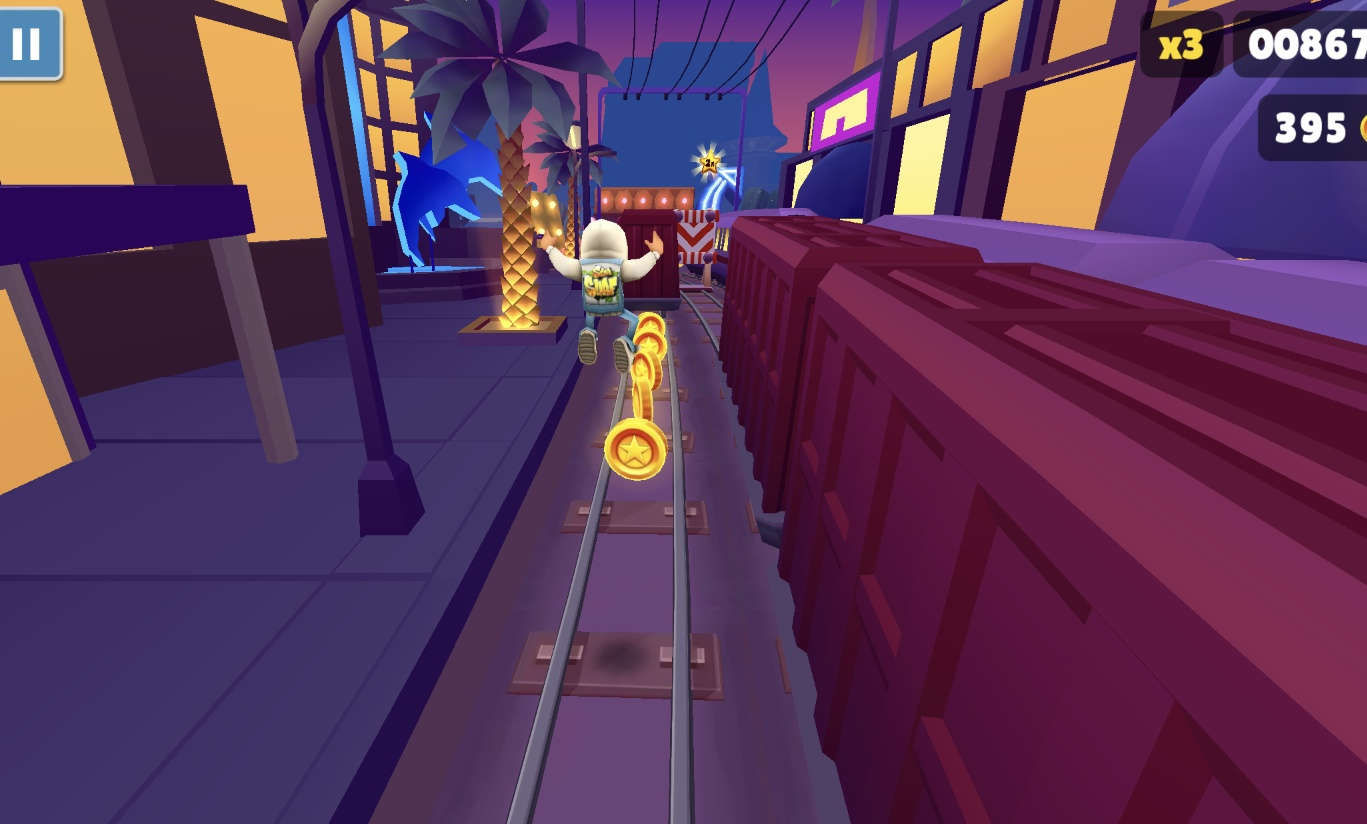overhead_barrier: (675, 209, 720, 291)
train: (720, 215, 1367, 824), (716, 208, 1367, 278), (611, 210, 684, 312)
